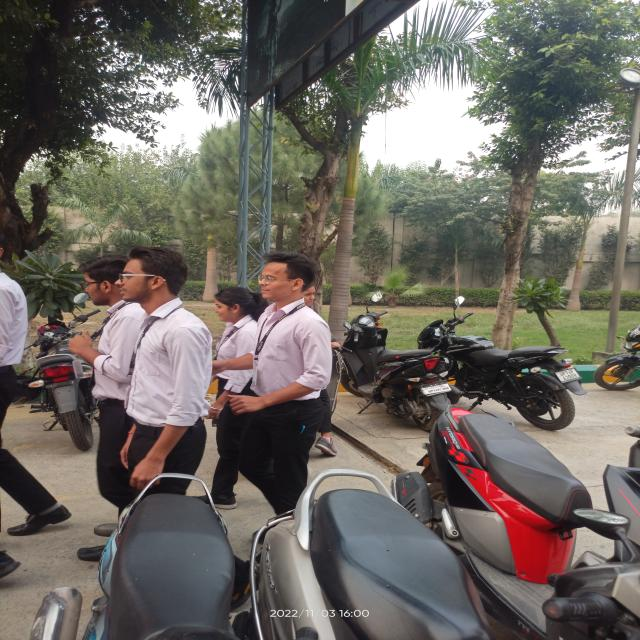unsafe: (245, 252, 332, 518), (120, 247, 213, 488), (70, 256, 125, 548), (206, 285, 258, 506)
